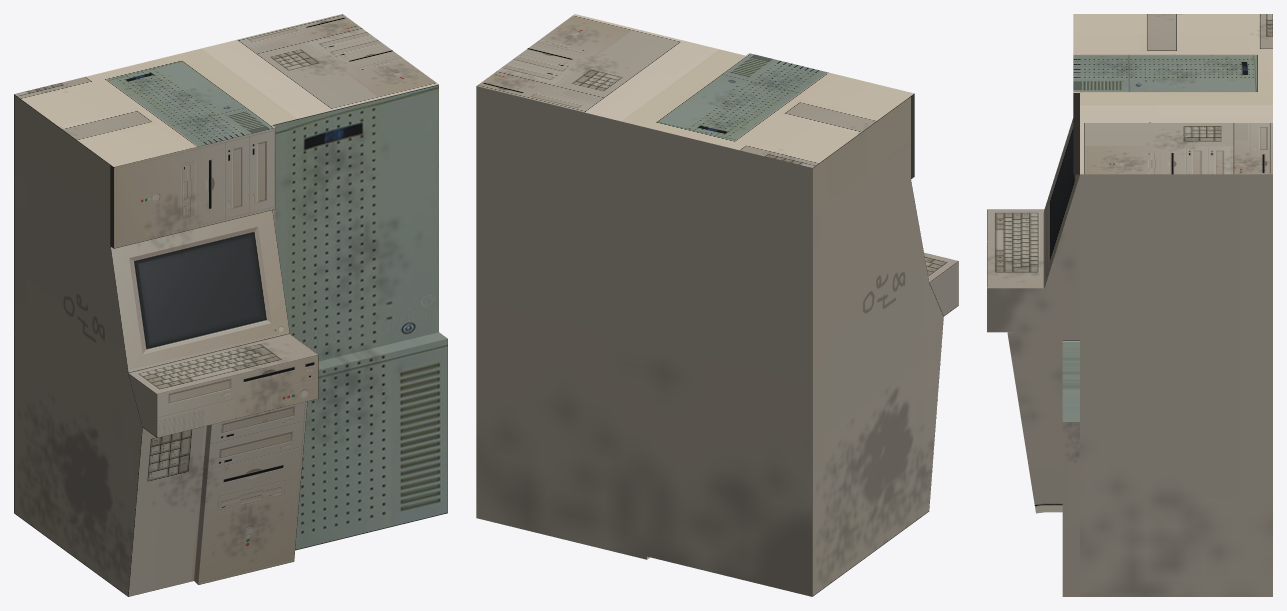
File: machine.glb
3 renders of one model, left to right at view 1: azimuth 30°, elevation 25°; view 2: azimuth 150°, elevation 25°; view 3: azimuth 270°, elevation 25°, orthographic. The views are drawn at different scales.
Visible parts, largest first — view 1: machine; view 2: machine; view 3: machine.
Boxes of the visible parts, x1,y1,x2,y2 form: machine: [14, 14, 447, 596]; machine: [476, 14, 958, 596]; machine: [987, 14, 1272, 596].
Bounding box in the file's own units: 3.94 × 4.84 × 2.97.
1 material, 1 textured.
